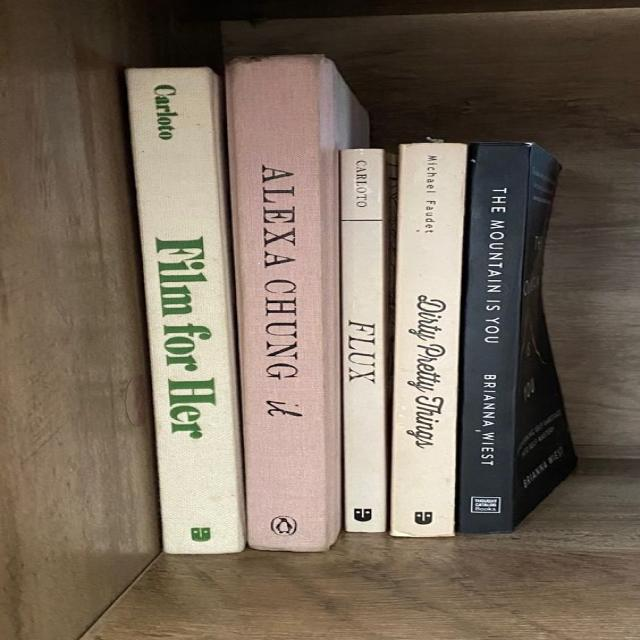book: (126, 68, 244, 553), (233, 61, 336, 549), (389, 141, 466, 537), (466, 142, 519, 524), (342, 149, 387, 532)
